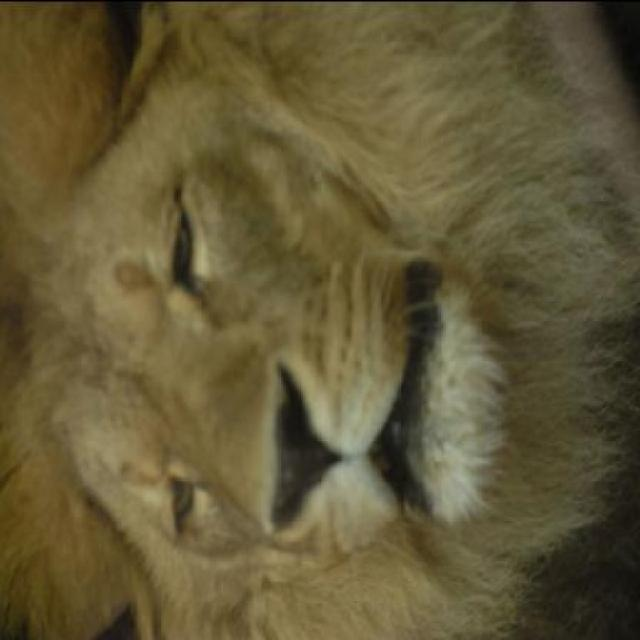Lion: (9, 5, 638, 637)
